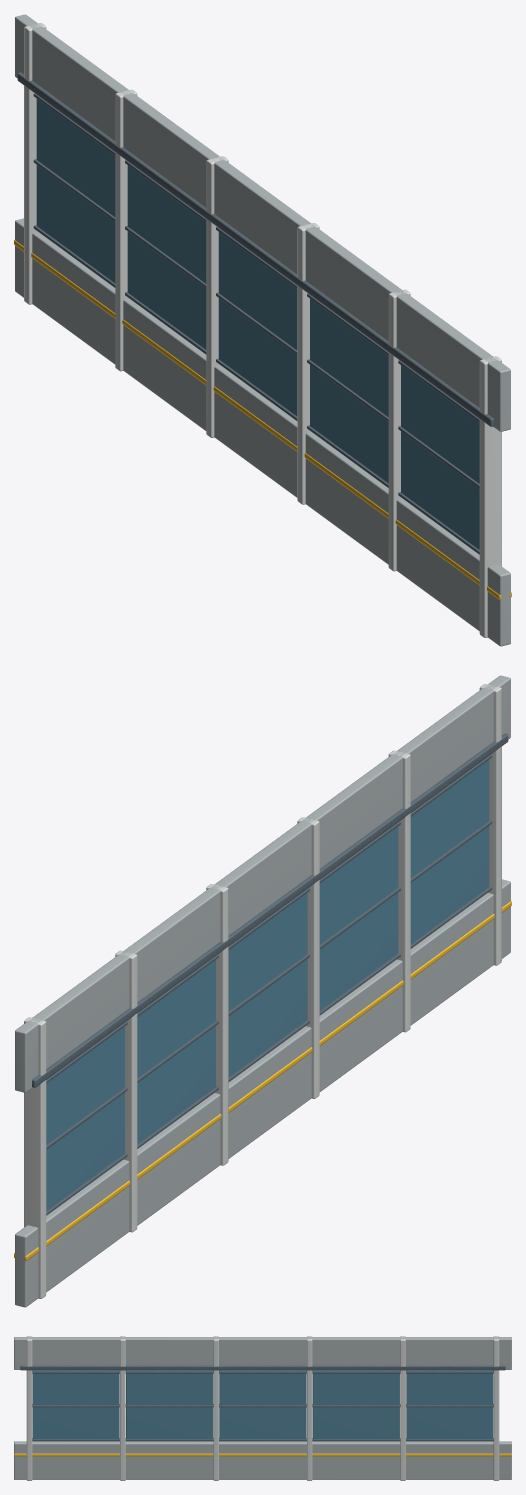
The model's file is wall-e.gltf.
The picture shows the model from 3 angles, top to bottom: view 1: azimuth 30°, elevation 25°; view 2: azimuth 150°, elevation 25°; view 3: azimuth 270°, elevation 25°; orthographic projection. The views are drawn at different scales.
Visible parts, largest first — view 1: wall-e; view 2: wall-e; view 3: wall-e.
Part boxes in pixels (box(x1,y1,x2,y2)): wall-e: box(14, 14, 511, 646); wall-e: box(14, 675, 511, 1307); wall-e: box(14, 1336, 511, 1480).
Size of the model in its own units: 0.35 by 5 by 16.
5 materials, 1 textured.
